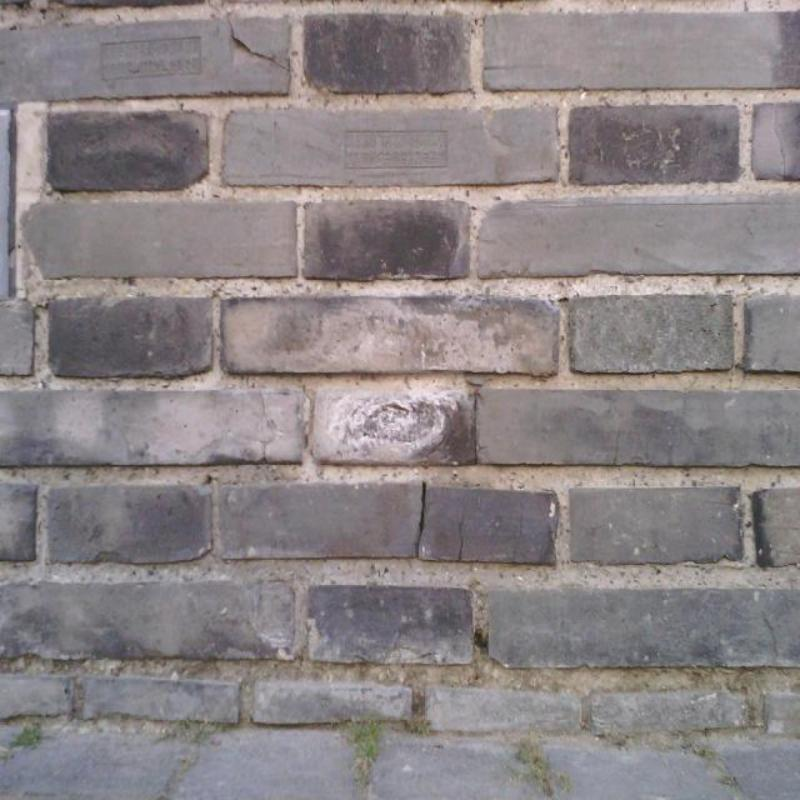pothole: (228, 20, 290, 72), (415, 482, 427, 556), (763, 617, 779, 653), (612, 427, 622, 465), (458, 524, 463, 560)
